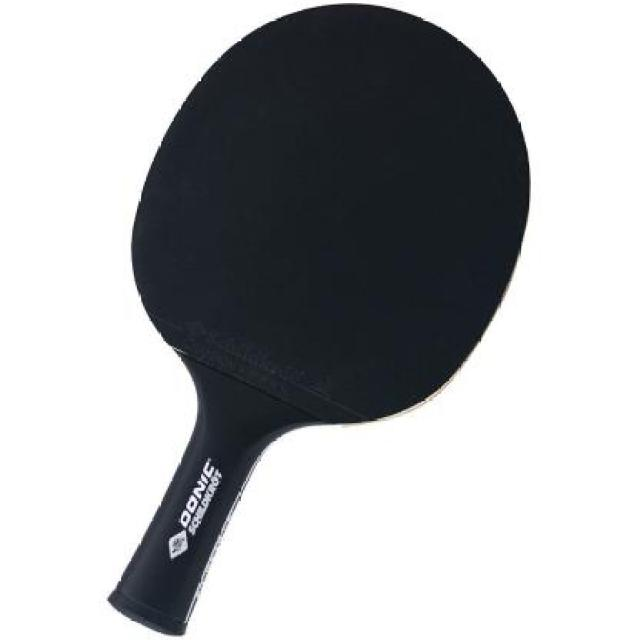table_tennis_racket: (118, 0, 538, 435)
